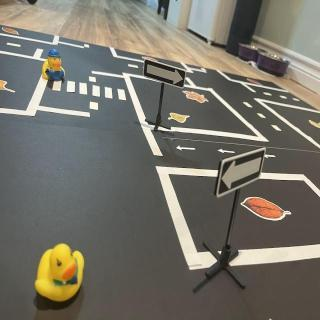duck_regular: (35, 245, 85, 301)
duck_specialty: (43, 49, 67, 82)
road_crosswalk: (49, 81, 129, 104)
road_oneway: (175, 144, 199, 154), (218, 144, 238, 155), (264, 152, 278, 162)
sign_oneway_left: (217, 147, 267, 198)
sign_oneway_right: (144, 59, 187, 91)
